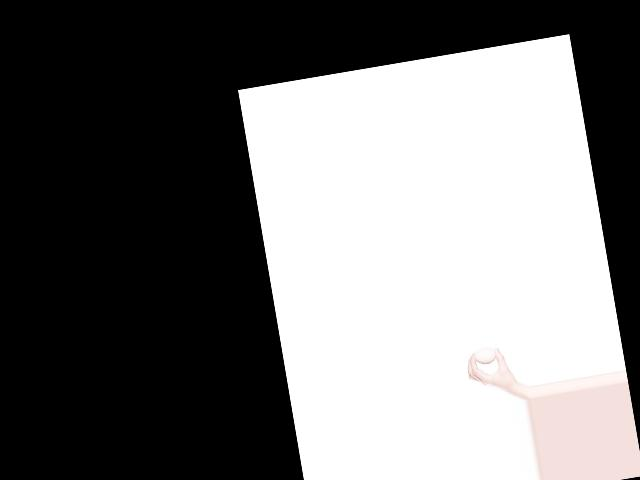egg: (473, 346, 497, 365)
